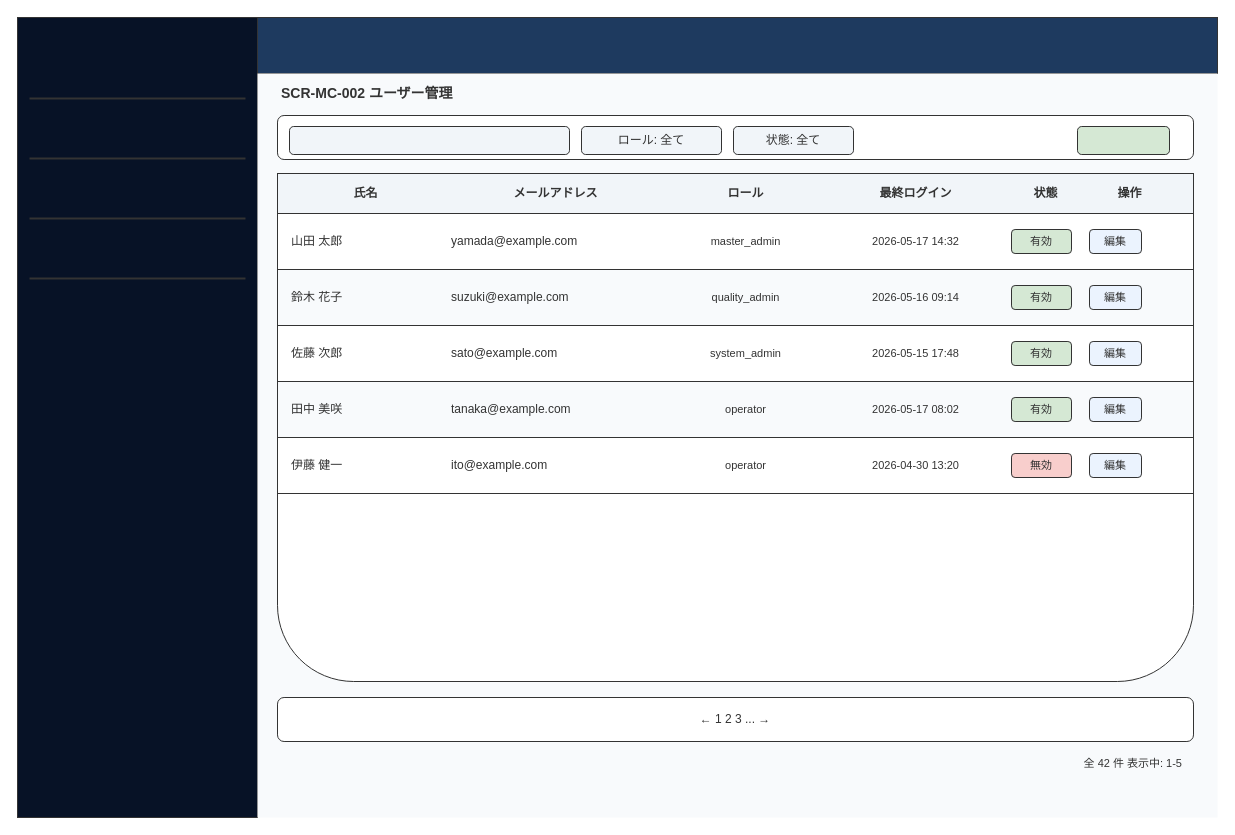
The diagram is 1235 pixels wide and 835 high, and some of its shapes have lost their labels. Each missing label, with the box of its shape:
新規追加: (1076, 126, 1170, 154)
氏名 / メール検索: (288, 126, 570, 154)
